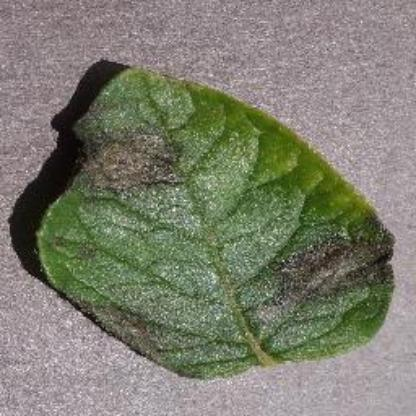Late-Blight: (31, 59, 404, 379)
